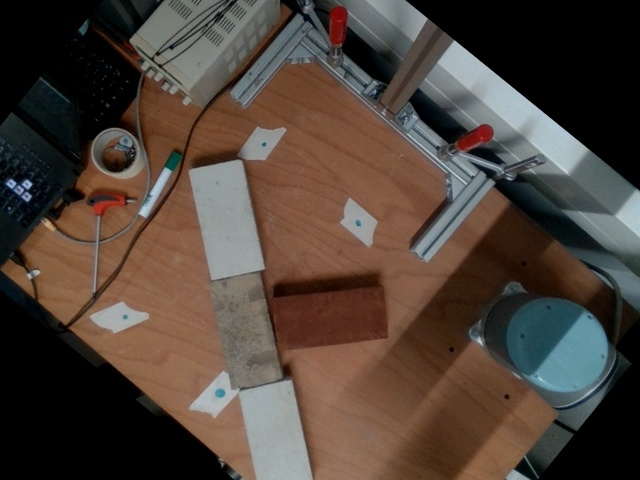brick: (188, 159, 263, 278), (211, 275, 279, 389), (276, 284, 387, 351), (238, 381, 313, 479)
